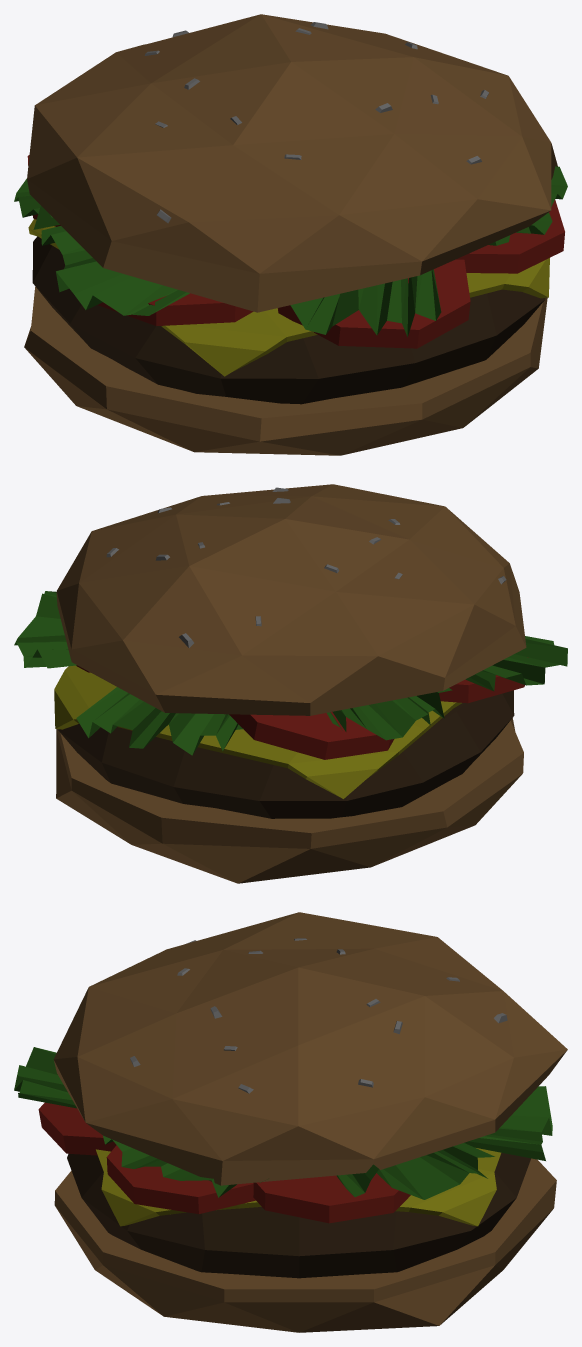
File: Burger.obj
3 renders of one model, top to bottom at view 1: azimuth 30°, elevation 25°; view 2: azimuth 150°, elevation 25°; view 3: azimuth 270°, elevation 25°, orthographic. The views are drawn at different scales.
Parts seen in each view (by area): view 1: Burger_Icosphere; view 2: Burger_Icosphere; view 3: Burger_Icosphere.
Part boxes in pixels (box(x1,y1,x2,y2)): Burger_Icosphere: box(14, 14, 567, 455); Burger_Icosphere: box(14, 484, 567, 883); Burger_Icosphere: box(14, 912, 567, 1332).
Bounding box in the file's own units: 1.65 × 1.07 × 1.7.
